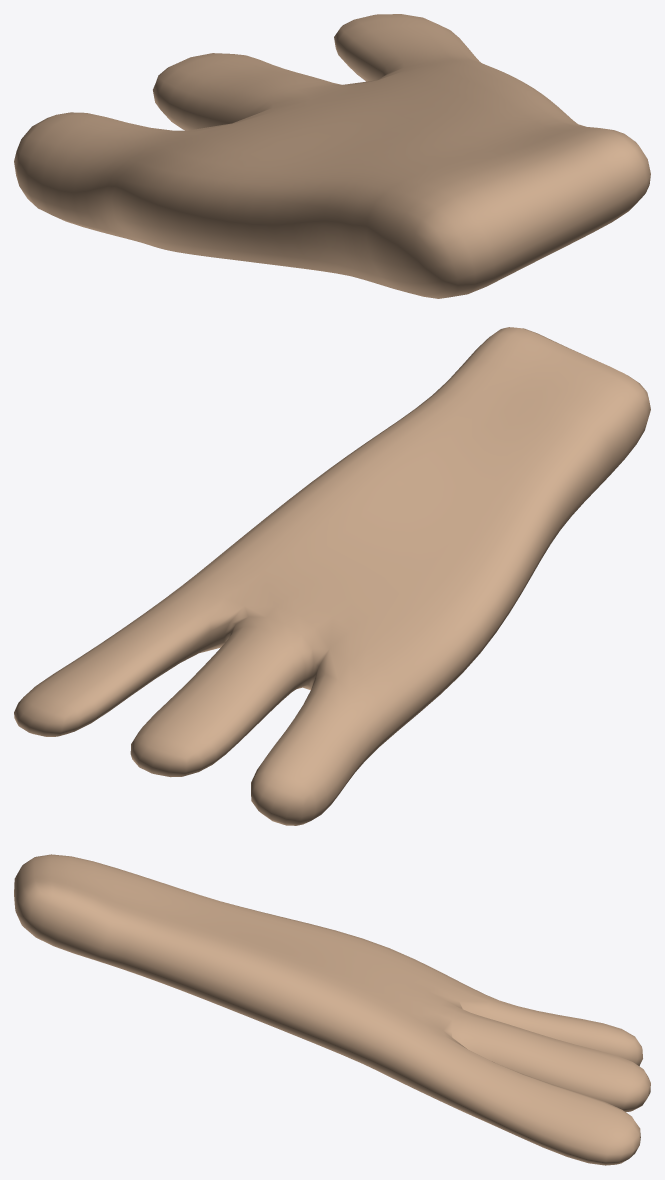
3 views of the same model, one above another, from view 1: azimuth 30°, elevation 25°; view 2: azimuth 150°, elevation 25°; view 3: azimuth 270°, elevation 25° (orthographic). The views are drawn at different scales.
Parts seen in each view (by area): view 1: 左侧指伸肌与示指伸肌腱鞘; view 2: 左侧指伸肌与示指伸肌腱鞘; view 3: 左侧指伸肌与示指伸肌腱鞘.
Boxes of the visible parts, x1,y1,x2,y2 form: 左侧指伸肌与示指伸肌腱鞘: (14, 14, 650, 298); 左侧指伸肌与示指伸肌腱鞘: (14, 327, 650, 825); 左侧指伸肌与示指伸肌腱鞘: (14, 854, 650, 1165).
Bounding box in the file's own units: 0.0402 × 0.0284 × 0.0714.
